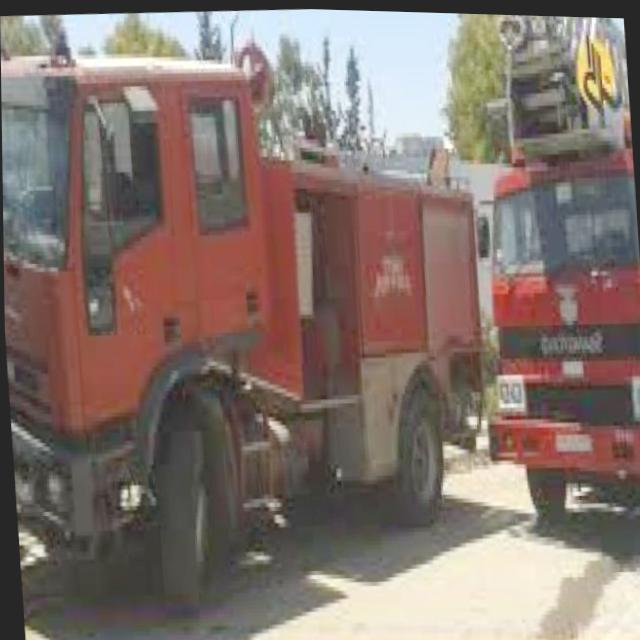emergency: (0, 18, 500, 615)
